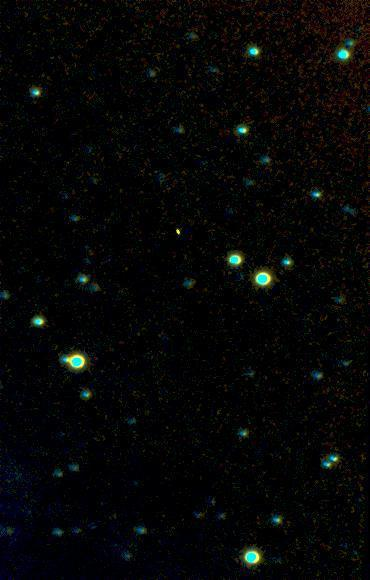star: (0, 515, 26, 545)
